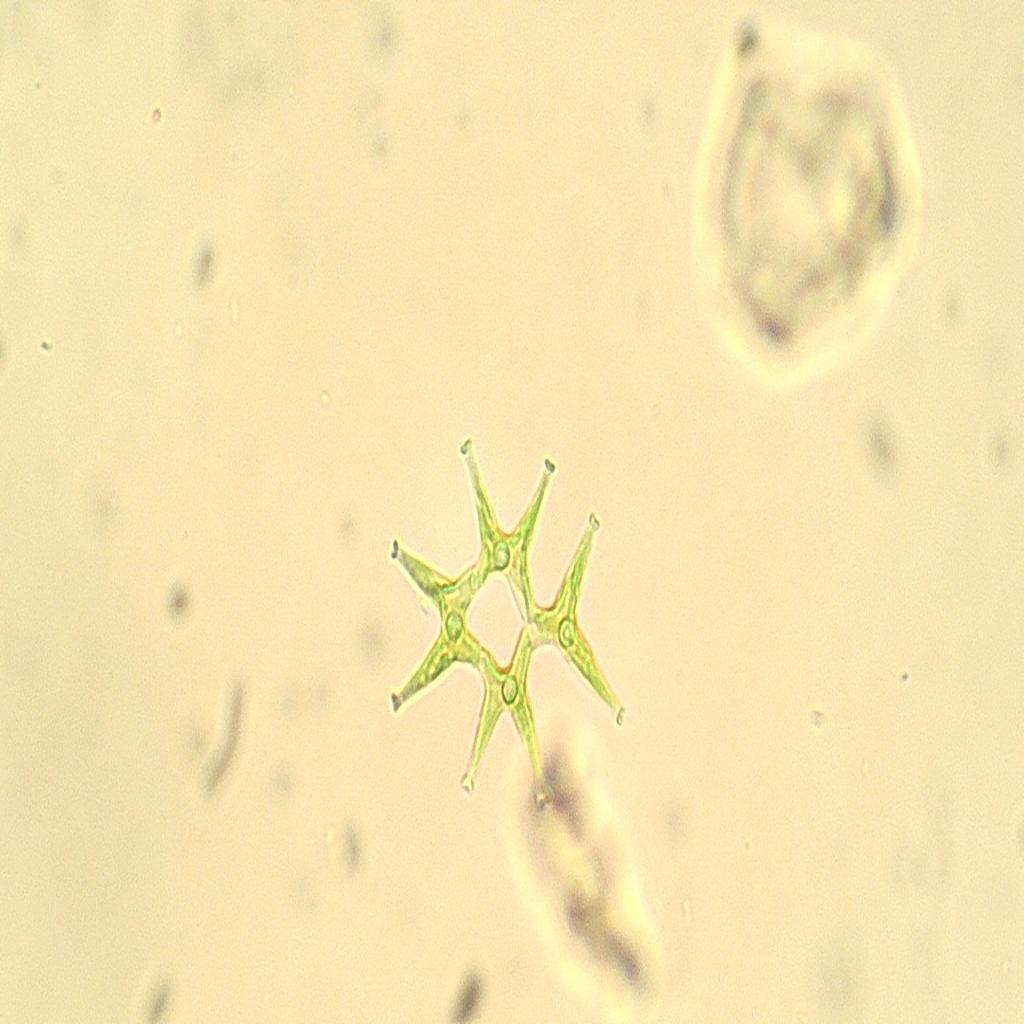Pediastrum_CT: (368, 399, 644, 830)
